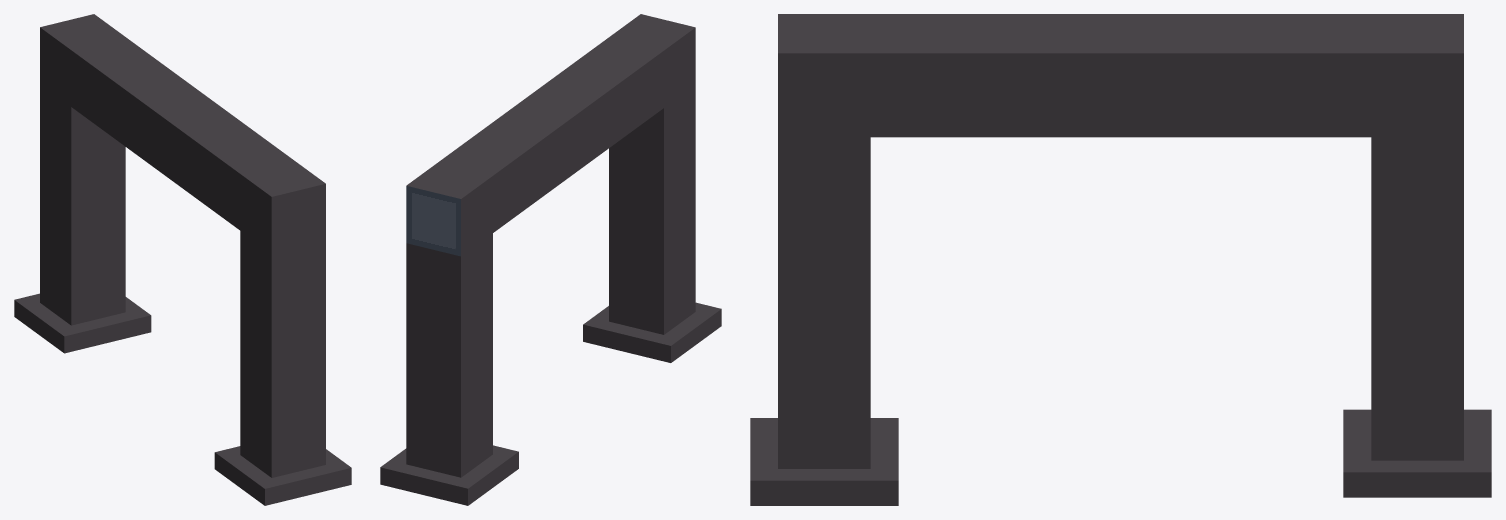
File: door.gltf
The picture shows the model from 3 angles, left to right: view 1: azimuth 30°, elevation 25°; view 2: azimuth 150°, elevation 25°; view 3: azimuth 270°, elevation 25°; orthographic projection. The views are drawn at different scales.
Parts seen in each view (by area): view 1: mesh (×5); view 2: mesh (×5); view 3: mesh (×5).
Boxes of the visible parts, box(x1,y1,x2,y2) form: mesh (×5): box(14, 14, 351, 505); mesh (×5): box(380, 14, 721, 505); mesh (×5): box(750, 14, 1491, 505).
Size of the model in its own units: 1 by 3.28 by 5.
